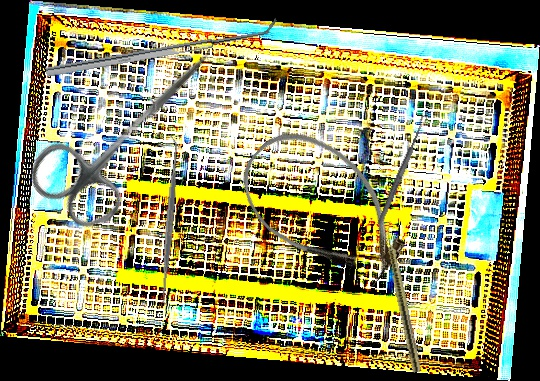Cannula: (221, 109, 427, 308)
Handpiece: (380, 220, 424, 373)
Iris Scissors: (19, 17, 241, 243)
Spatula Surgical: (43, 17, 280, 77), (153, 135, 186, 307)
Surgical Spoon: (376, 114, 429, 226)
